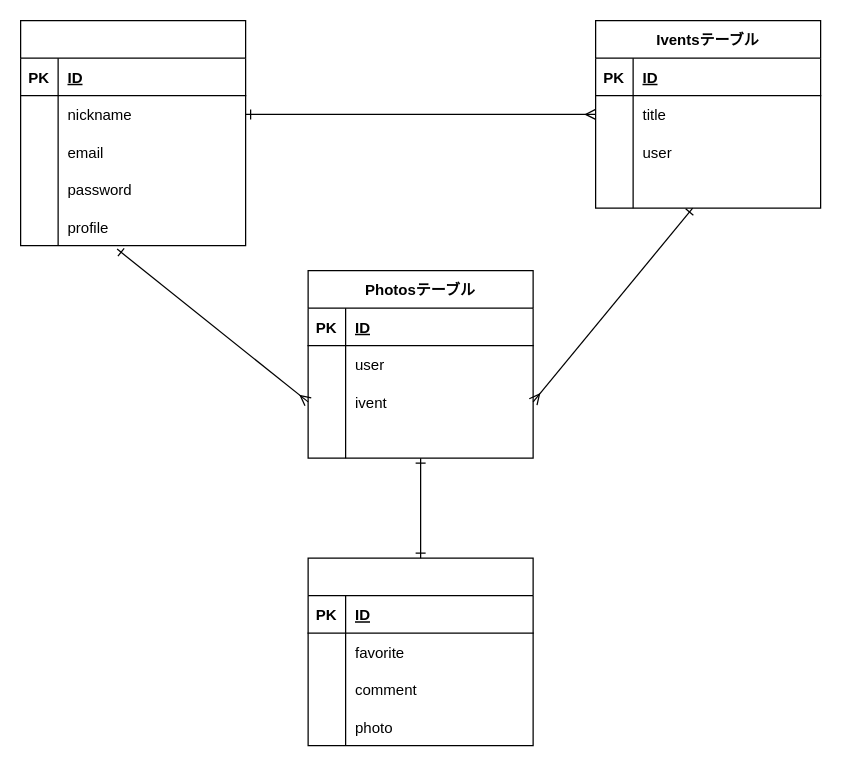
This 841x766 diagram has some shape labels left out. The shapes that lost their labels are listed below. From the top down, each one's box as (x1, y1, x2, y2) in pixels, then its label:
(19, 19, 246, 246): Usersテーブル
(307, 557, 533, 746): Favoritesテーブル
